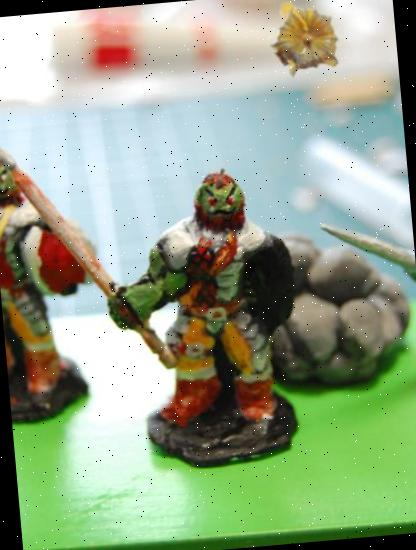Physalis: (258, 0, 351, 84)
